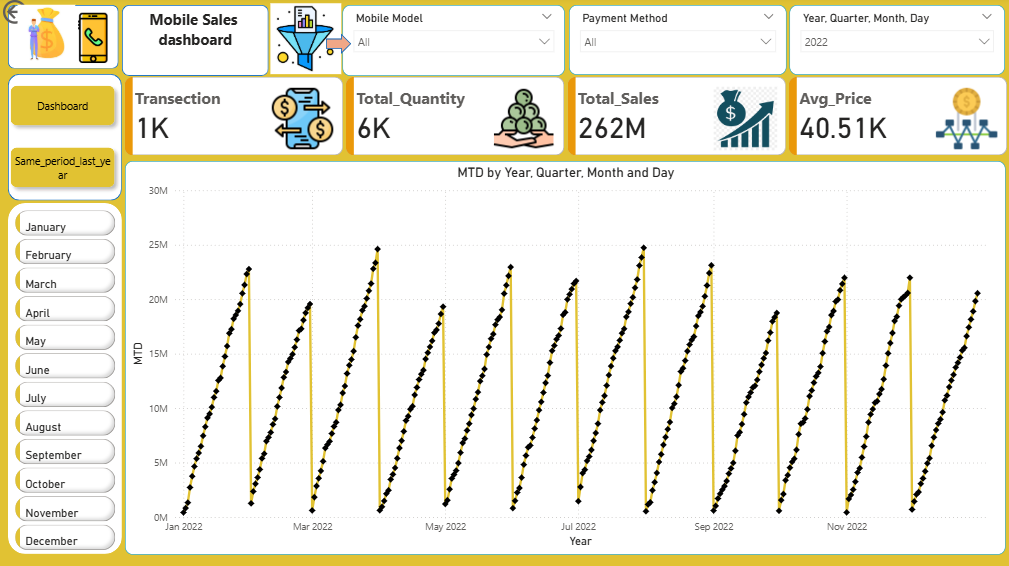

The page's visual inventory and layout, read from the dashboard file:
{"tool":"powerbi","page":{"name":"MTD_Report","canvas":[1280,720],"ordinal":1},"visuals":[{"type":"shape","box":[12.1,10.6,139.3,80.3],"z":0},{"type":"shape","box":[12,97.6,143.4,159.3],"z":1000},{"type":"cardVisual","fields":{"Data":["Sheet.Number_of_Transection","Sheet.Total_Quantity","Sheet.Total_Amount","Calender.Avg_Price_Per_Unit"]},"box":[152.9,96.9,1125.1,109],"z":2000},{"type":"slicer","fields":{"Values":["Sheet.Mobile Model"]},"box":[433.1,10.6,280.1,89.3],"z":3000},{"type":"actionButton","box":[0,0,100,40],"z":4000},{"type":"slicer","fields":{"Values":["Sheet.Payment Method"]},"box":[717.7,10.6,274.1,87.8],"z":5000},{"type":"slicer","fields":{"Values":["Calender.Date.Variation.Date Hierarchy.Year","Calender.Date.Variation.Date Hierarchy.Quarter","Calender.Date.Variation.Date Hierarchy.Month","Calender.Date.Variation.Date Hierarchy.Day"]},"box":[996.3,10.6,271,87.8],"z":6000},{"type":"image","box":[252.9,4.5,266.5,99.9],"z":7000},{"type":"shape","box":[411.9,46.9,31.8,25.7],"z":8000},{"type":"shape","box":[154.4,10.6,184.7,89.3],"z":9000},{"type":"textbox","box":[154.4,10.6,184.7,87.8],"z":10000},{"type":"lineChart","fields":{"Y":["Sheet.MTD"],"Category":["Calender.Date.Variation.Date Hierarchy.Year","Calender.Date.Variation.Date Hierarchy.Quarter","Calender.Date.Variation.Date Hierarchy.Month","Calender.Date.Variation.Date Hierarchy.Day"]},"box":[159.3,207.1,1109.4,495.9],"z":11000},{"type":"pageNavigator","box":[5.7,103.9,149.3,147.4],"z":12000},{"type":"shape","box":[11.3,260.8,143.6,442.2],"z":13000},{"type":"advancedSlicerVisual","fields":{"Values":["Calender.Date.Variation.Date Hierarchy.Month"]},"box":[15.1,264.6,136.1,442.2],"z":14000},{"type":"image","box":[11.3,5.7,96.4,83.2],"z":14001},{"type":"image","box":[81.3,3.8,73.7,98.3],"z":14002}]}

Visuals, with their boxes in screenshot pixels (x1, y1, x2, y2), scaled from the page's 1280x720 canvas onto the 1009x566 screenshot:
shape: [10,8,119,71]
shape: [9,77,122,202]
cardVisual - Sheet.Number_of_Transection x Sheet.Total_Quantity: [121,76,1007,162]
slicer - Sheet.Mobile Model: [341,8,562,79]
actionButton: [0,0,79,31]
slicer - Sheet.Payment Method: [566,8,782,77]
slicer - Calender.Date.Variation.Date Hierarchy.Year x Calender.Date.Variation.Date Hierarchy.Quarter: [785,8,999,77]
image: [199,4,409,82]
shape: [325,37,350,57]
shape: [122,8,267,79]
textbox: [122,8,267,77]
lineChart - Sheet.MTD x Calender.Date.Variation.Date Hierarchy.Year: [126,163,1000,553]
pageNavigator: [4,82,122,198]
shape: [9,205,122,553]
advancedSlicerVisual - Calender.Date.Variation.Date Hierarchy.Month: [12,208,119,556]
image: [9,4,85,70]
image: [64,3,122,80]
